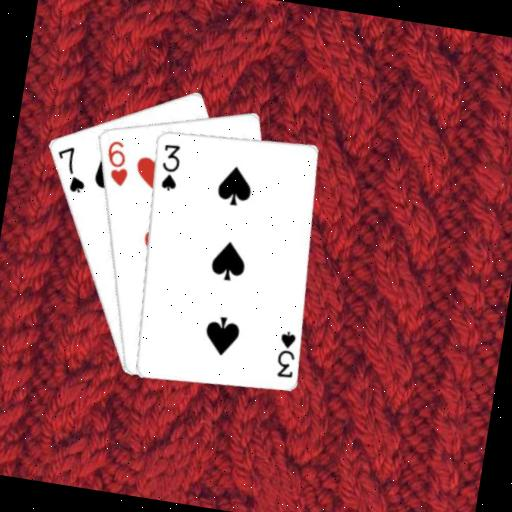3S: (270, 326, 300, 380), (154, 139, 184, 192)
6H: (99, 135, 134, 188)
7S: (48, 141, 92, 195)
